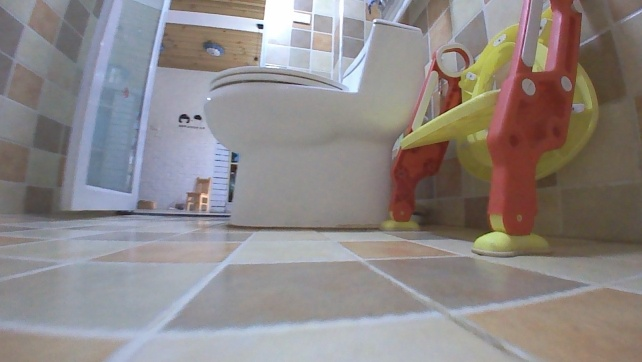door_anno: (53, 0, 172, 220)
toilet: (196, 15, 434, 234)
